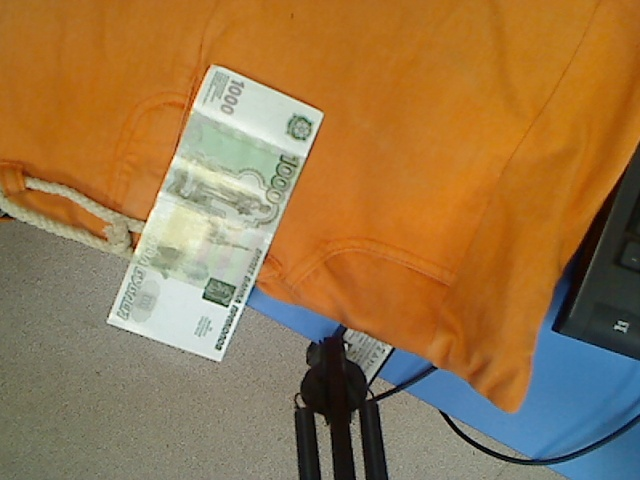banknotes: (103, 63, 324, 364)
